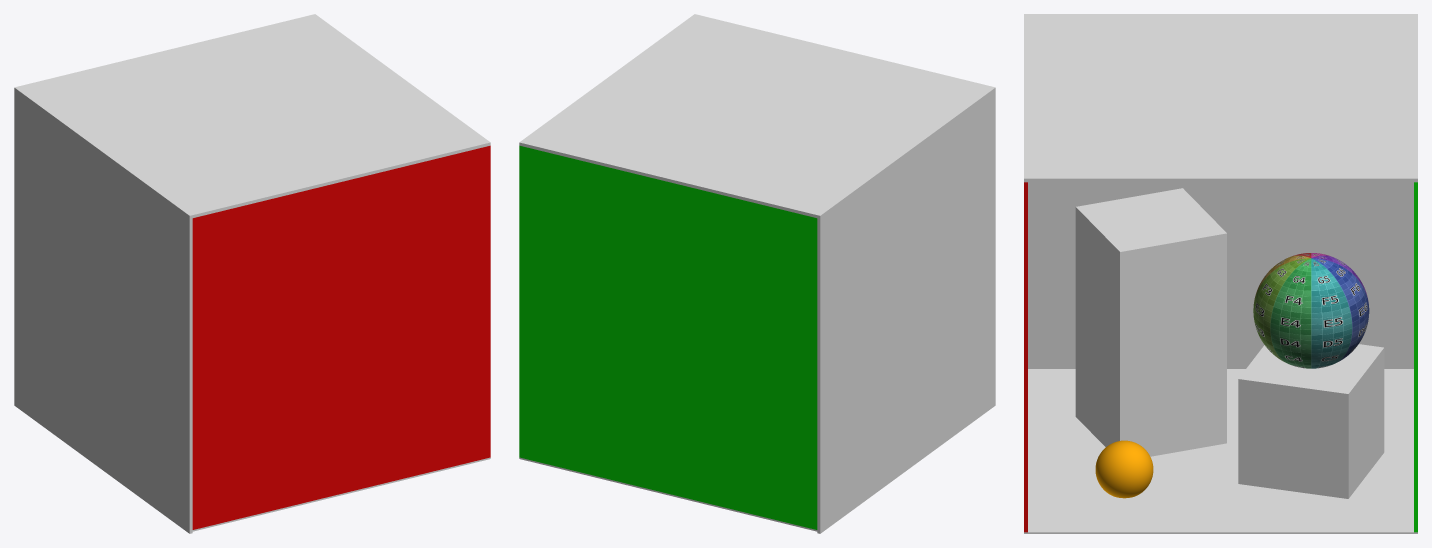
Rendered from cornell-box-1.glb.
The picture shows the model from 3 angles, left to right: view 1: azimuth 30°, elevation 25°; view 2: azimuth 150°, elevation 25°; view 3: azimuth 270°, elevation 25°; orthographic projection. The views are drawn at different scales.
Visible parts, largest first — view 1: Left, Back, Ceiling, Floor; view 2: Right, Back, Ceiling, Floor; view 3: Ceiling, Cube-Big, Back, Floor, Cube, Sphere, Metal, Right, Left.
Part boxes in pixels (<box>): Left: <box>192,145,490,529</box>; Back: <box>14,87,192,533</box>; Ceiling: <box>17,14,490,217</box>; Floor: <box>192,457,490,531</box>; Right: <box>519,145,817,529</box>; Back: <box>817,87,995,533</box>; Ceiling: <box>519,14,992,217</box>; Floor: <box>519,457,817,531</box>; Ceiling: <box>1024,15,1417,182</box>; Cube-Big: <box>1075,188,1226,456</box>; Back: <box>1024,14,1417,368</box>; Floor: <box>1024,369,1417,533</box>; Cube: <box>1238,344,1384,498</box>; Sphere: <box>1253,253,1369,368</box>; Metal: <box>1095,440,1153,498</box>; Right: <box>1414,182,1417,532</box>; Left: <box>1024,182,1027,532</box>.
Bounding box in the file's own units: 2.02 × 2.04 × 2.04.
8 materials, 1 textured.
